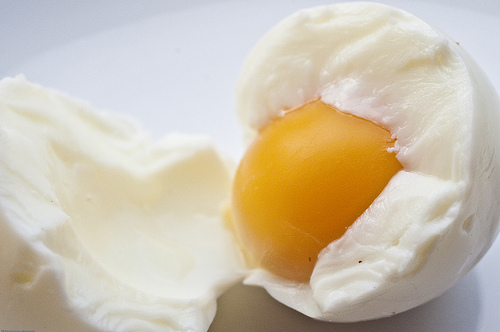egg: (220, 3, 499, 325)
